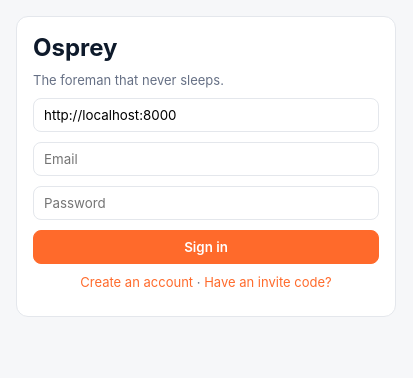
Test case: Login › toggles between signing in and creating an account
This screenshot has width=413, height=378.
Check: the button "Sign in" is shown, box [33,230,379,264]
Check: the field with placeholder "Organization name" is not shown
Step 1. Click the link "Create an account" → x=137, y=282, box [80,274,193,290]
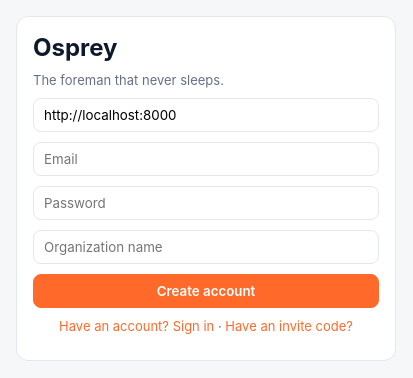
Check: the button "Create account" is shown, box [33,274,379,308]
Check: the field with placeholder "Organization name" is shown, box [33,230,379,264]
